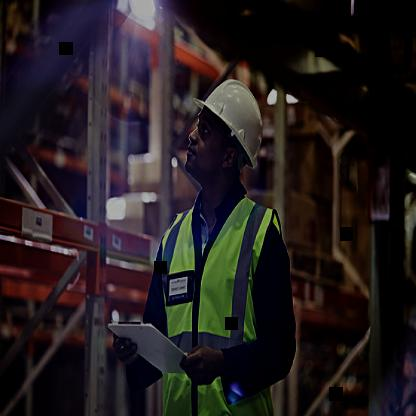helmet: (182, 58, 272, 212)
